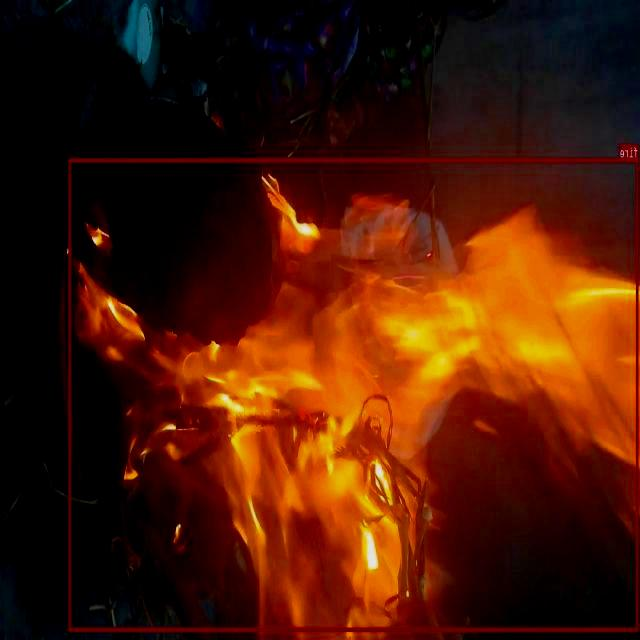fire: (69, 158, 639, 632)
